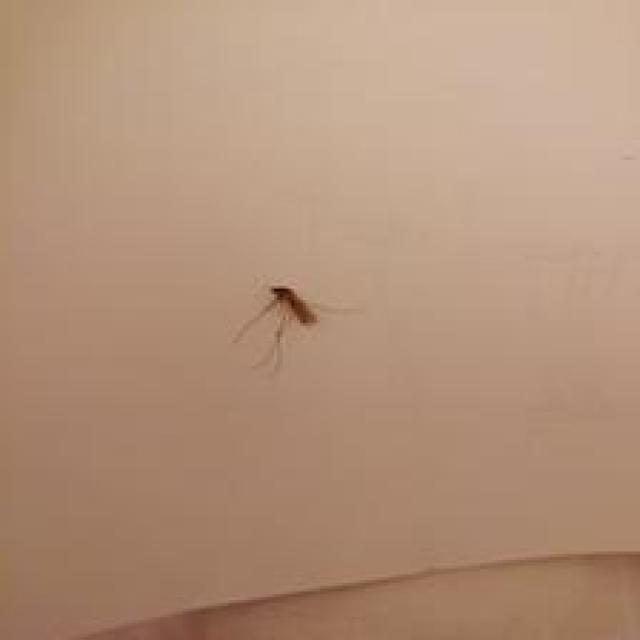Culex: (228, 281, 363, 376)
